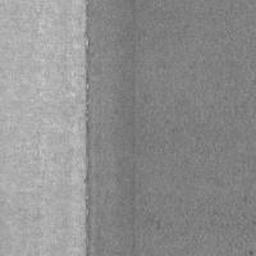Welding line: (82, 0, 93, 256)
